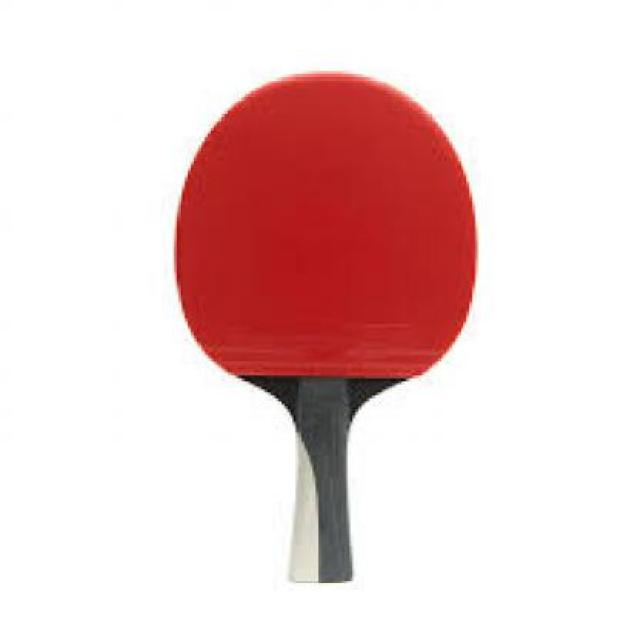table_tennis_racket: (170, 58, 481, 410)
